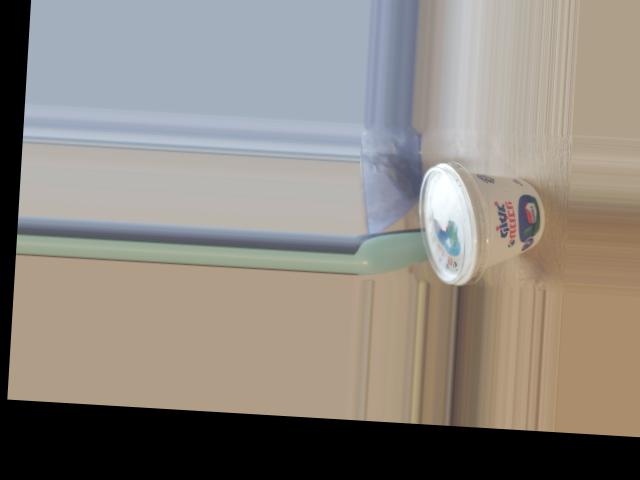cotage: (415, 168, 538, 275)
